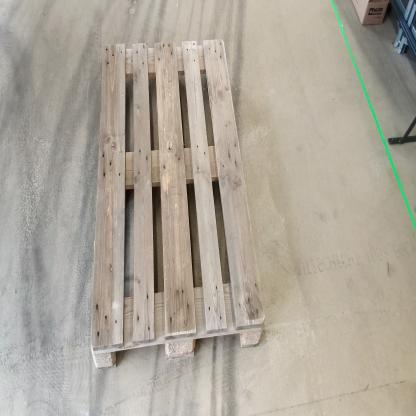BoxFace: (84, 29, 270, 382)
